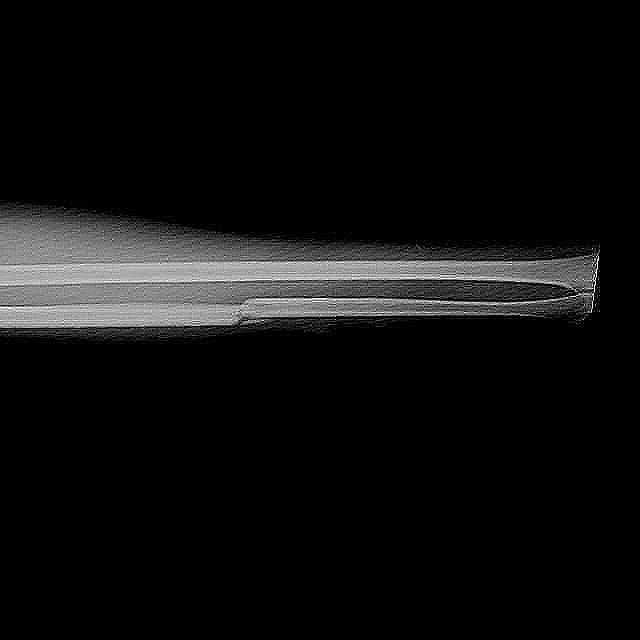bone: (184, 290, 309, 340)
